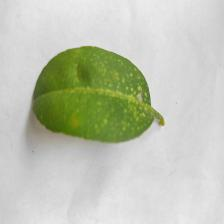greening: (26, 39, 173, 146)
